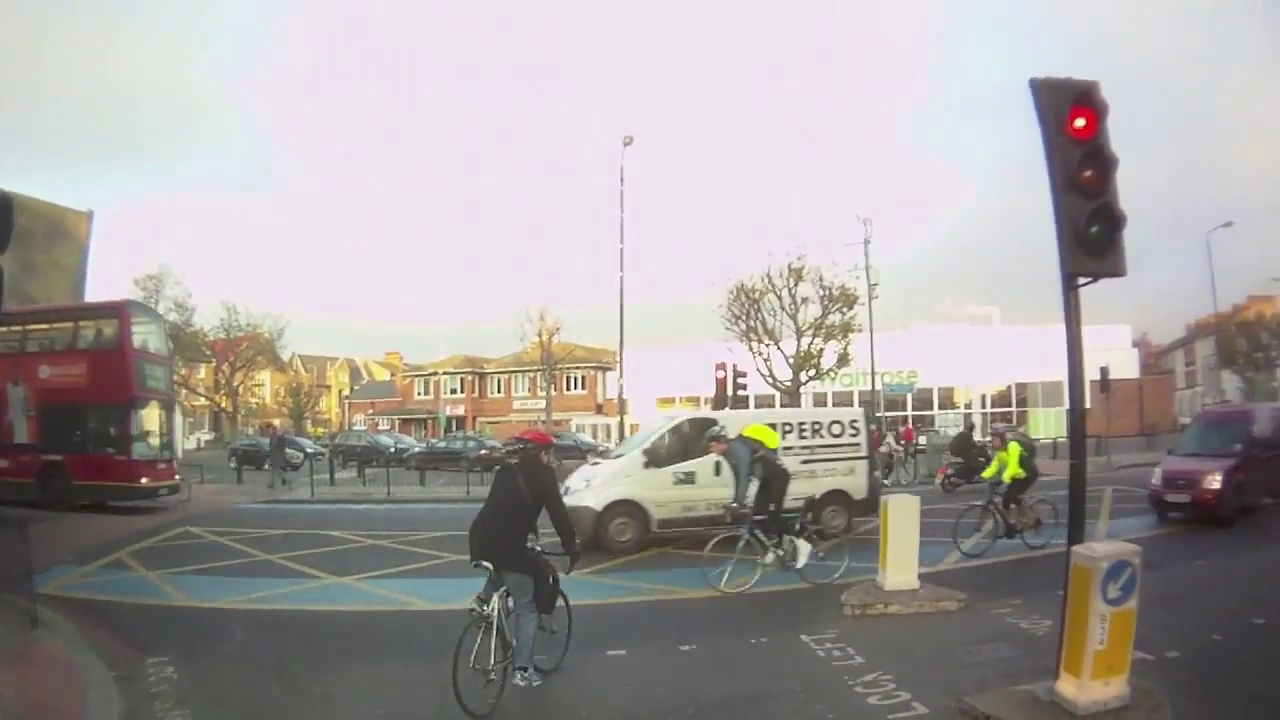cyclist_back: (451, 424, 575, 710)
cyclist_side: (692, 417, 855, 598), (952, 419, 1057, 556)
